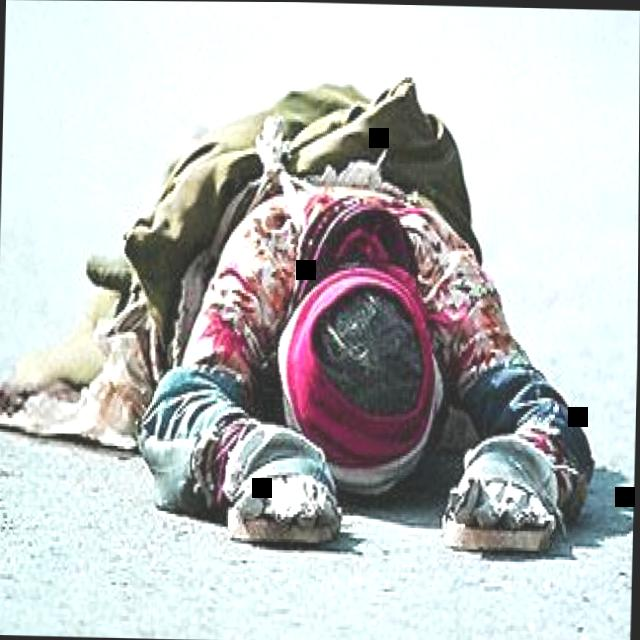Fall-Detected: (68, 0, 640, 560)
